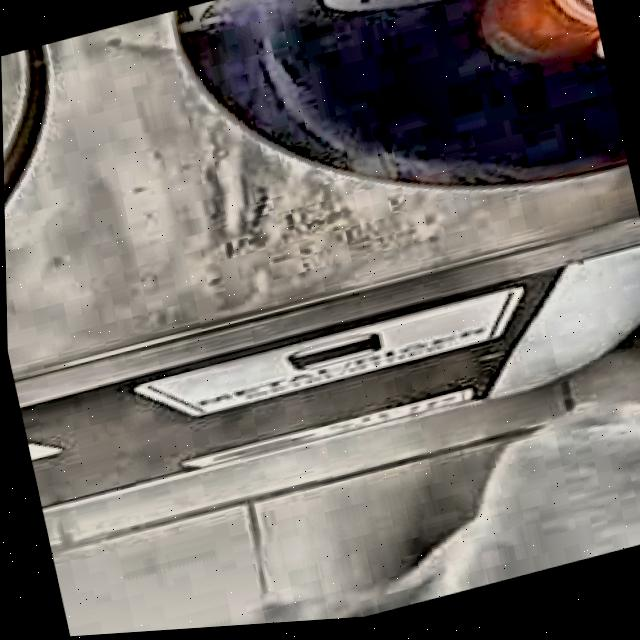metal: (483, 0, 601, 68)
